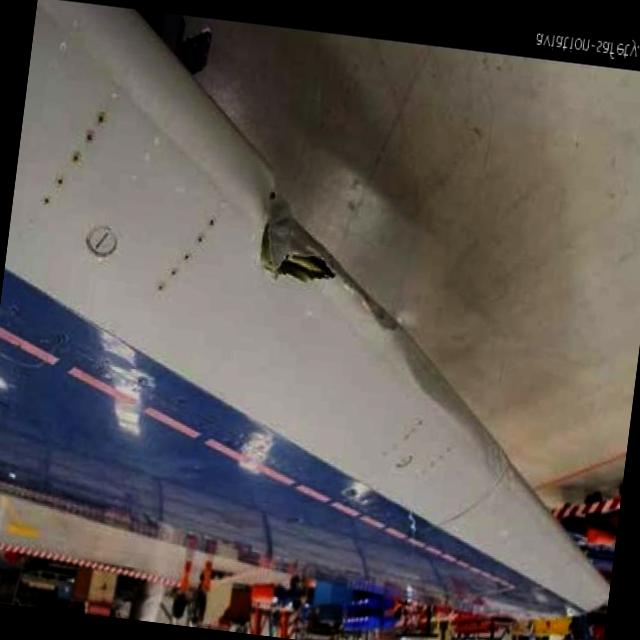crack: (253, 205, 341, 284)
dent: (373, 322, 522, 470)
